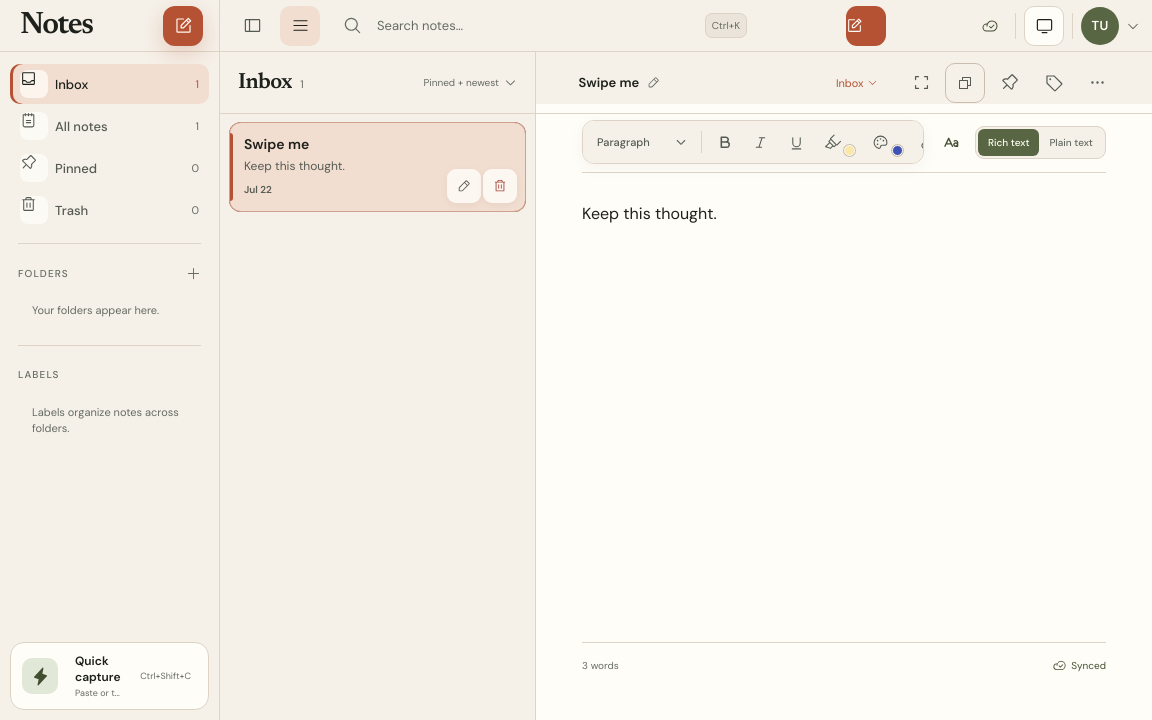
Test: Note names and writing tools › opens rename with F2 and cancels without saving
Press F2 in the button with class "note-row-select", box [230,123,525,211]
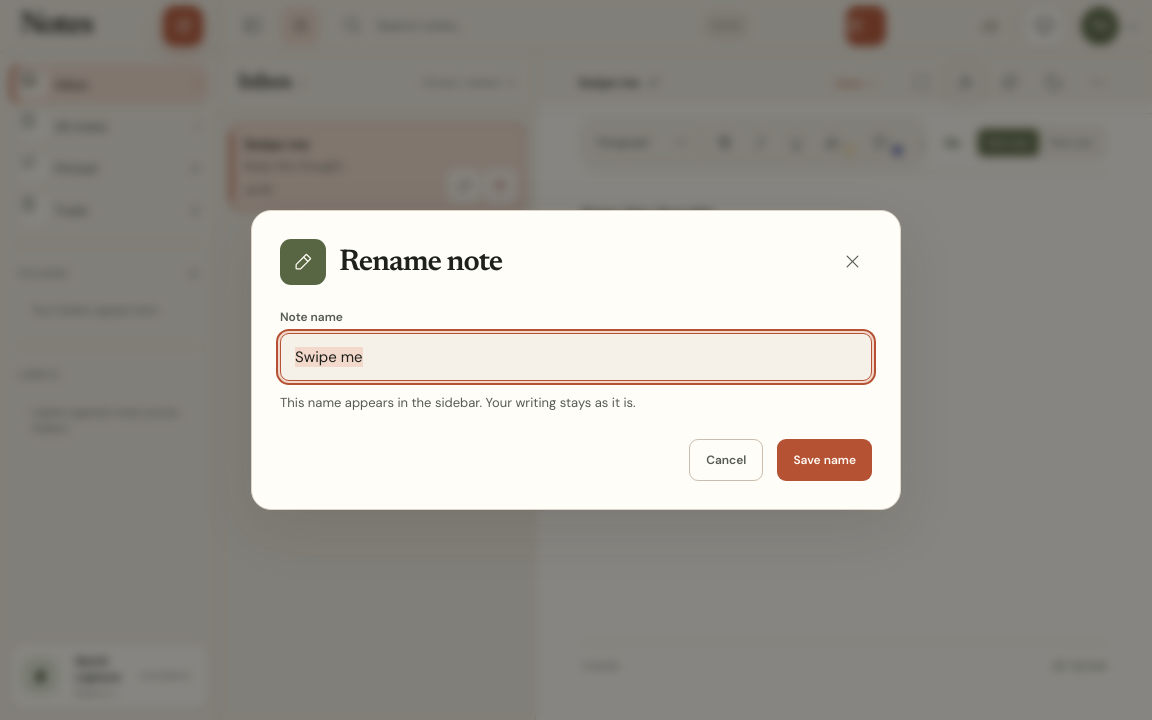
Replace the text in the field labelled "Note name" with "Discard this name": (576, 357) [280,333,872,381]
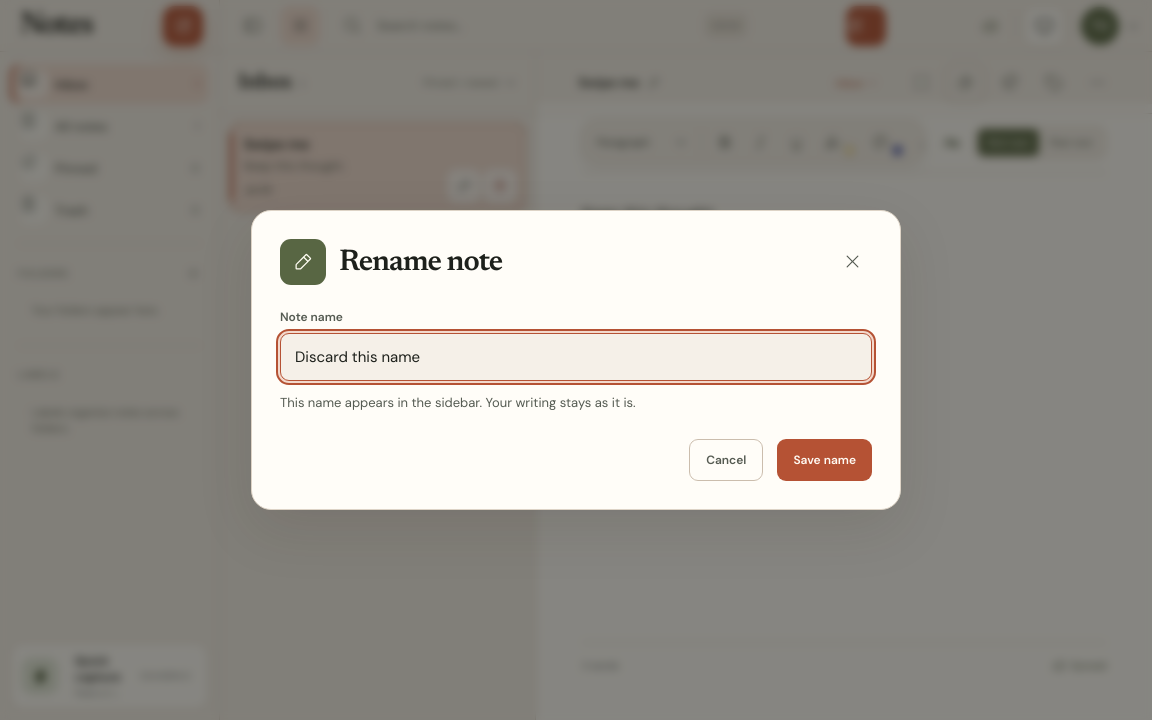
Click the button "Cancel": click(726, 460) [689,439,763,481]
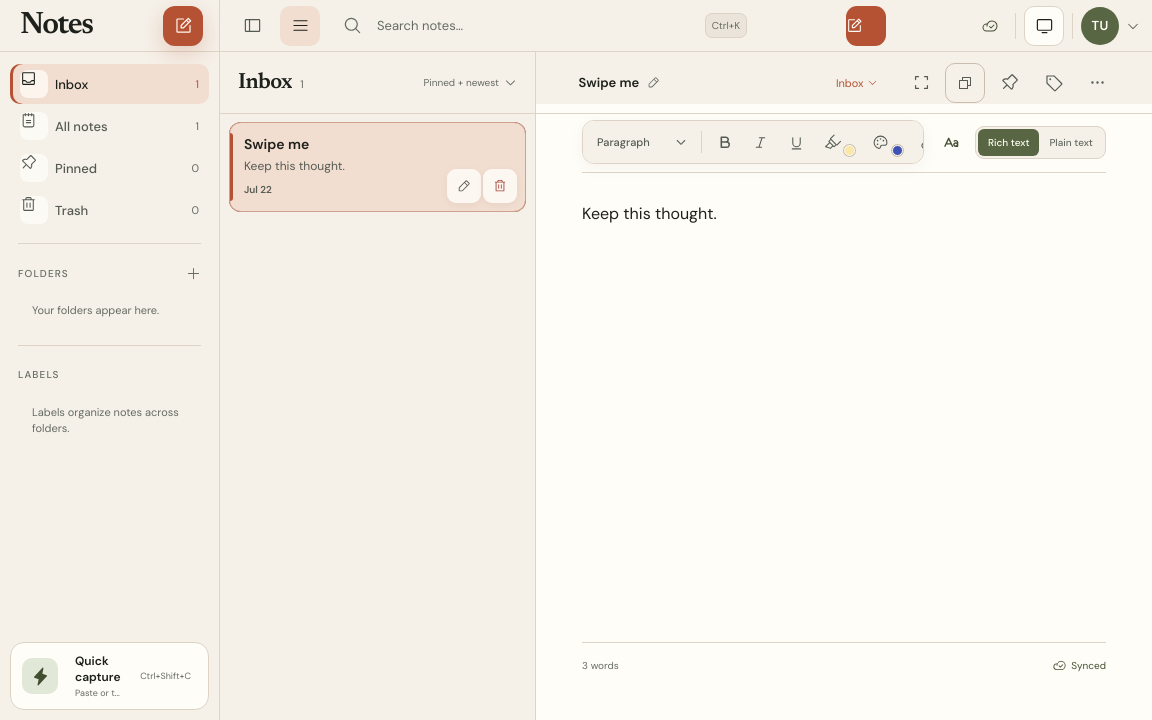
Check: the heading "Rename note" is gone
